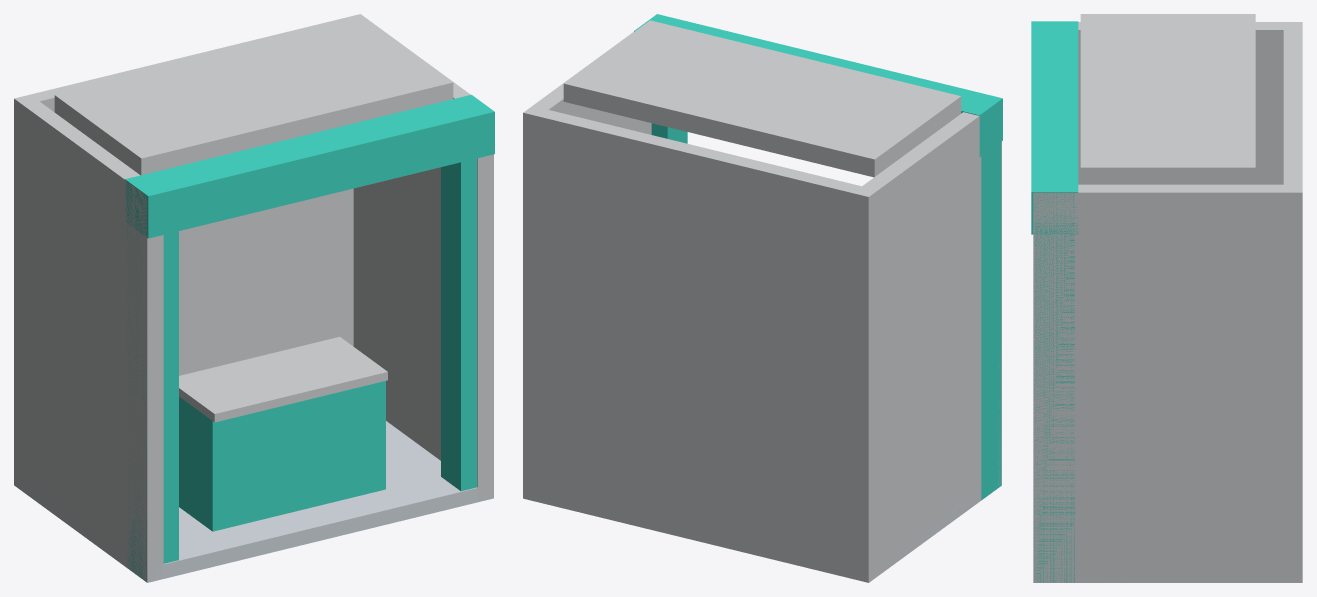
3 views of the same model, side by side, from view 1: azimuth 30°, elevation 25°; view 2: azimuth 150°, elevation 25°; view 3: azimuth 270°, elevation 25° (orthographic).
Parts seen in each view (by area): view 1: Exhibition Booth Concept; view 2: Exhibition Booth Concept; view 3: Exhibition Booth Concept.
Boxes of the visible parts, x1=… form: Exhibition Booth Concept: x1=14, y1=14, x2=494, y2=582; Exhibition Booth Concept: x1=523, y1=14, x2=1002, y2=582; Exhibition Booth Concept: x1=1031, y1=14, x2=1302, y2=582.
Bounding box in the file's own units: 3 × 3.34 × 2.01.
